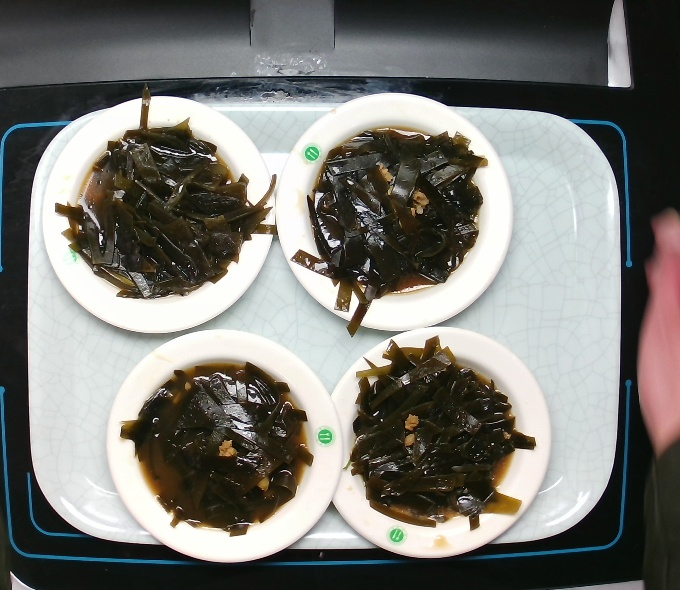wcq-HaiDai: (61, 123, 264, 299), (349, 343, 538, 526), (302, 127, 495, 304), (130, 360, 312, 536)
